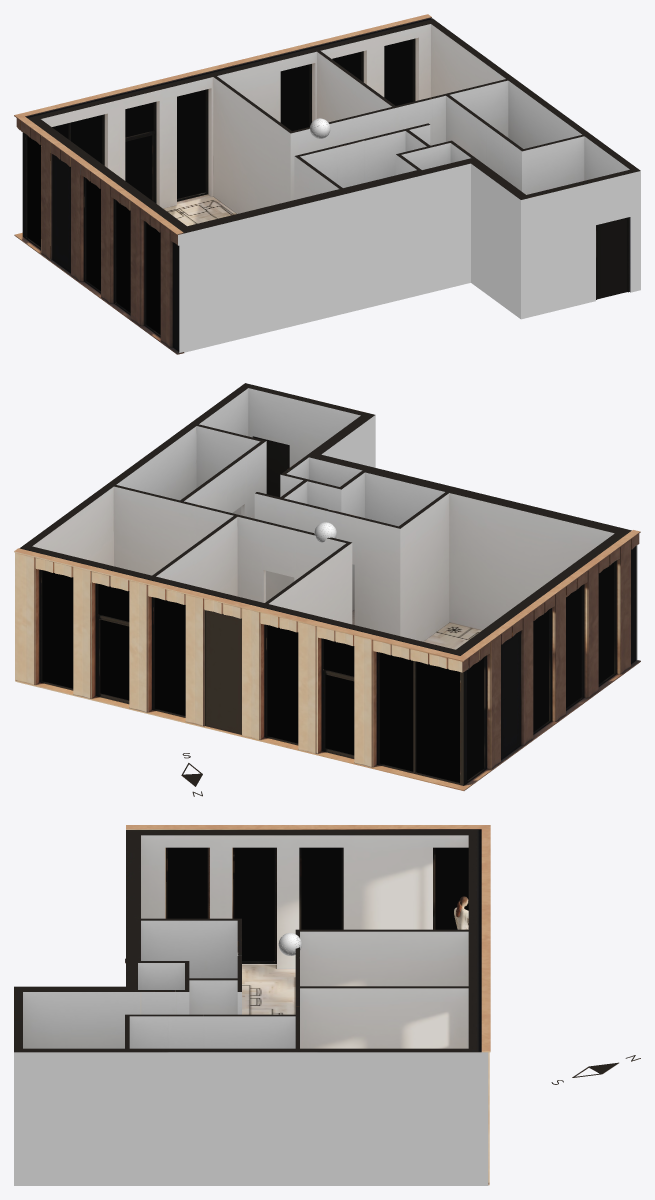
The picture shows the model from 3 angles, top to bottom: view 1: azimuth 30°, elevation 25°; view 2: azimuth 150°, elevation 25°; view 3: azimuth 270°, elevation 25°; orthographic projection. The views are drawn at different scales.
Parts seen in each view (by area): view 1: apt41, NO BAKE OUTER WALLS007, GLASS; view 2: apt41, GLASS, NO BAKE OUTER WALLS007; view 3: apt41, NO BAKE OUTER WALLS007, GLASS.
Part boxes in pixels (box(x1,y1,x2,y2)): apt41: box(14, 14, 640, 354); NO BAKE OUTER WALLS007: box(178, 18, 640, 352); GLASS: box(27, 39, 412, 334); apt41: box(14, 383, 640, 796); GLASS: box(42, 562, 613, 782); NO BAKE OUTER WALLS007: box(321, 415, 637, 660); apt41: box(14, 825, 640, 1185); NO BAKE OUTER WALLS007: box(14, 1052, 488, 1185); GLASS: box(167, 847, 468, 960).
Size of the model in its own units: 11.99 by 3.56 by 14.05.
4 materials, 1 textured.
